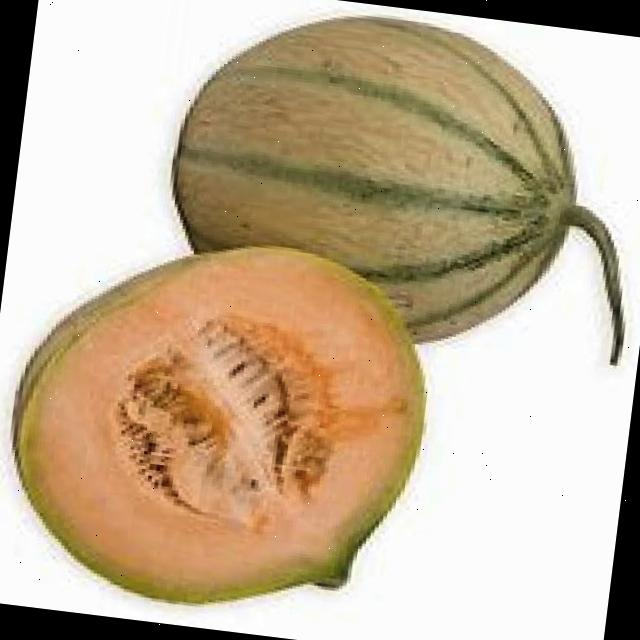Hami Melon: (0, 216, 444, 631), (153, 0, 597, 357)
